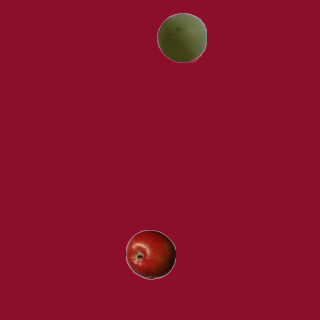Apple Braeburn: (125, 229, 175, 279)
Grape White 4: (156, 12, 206, 62)
